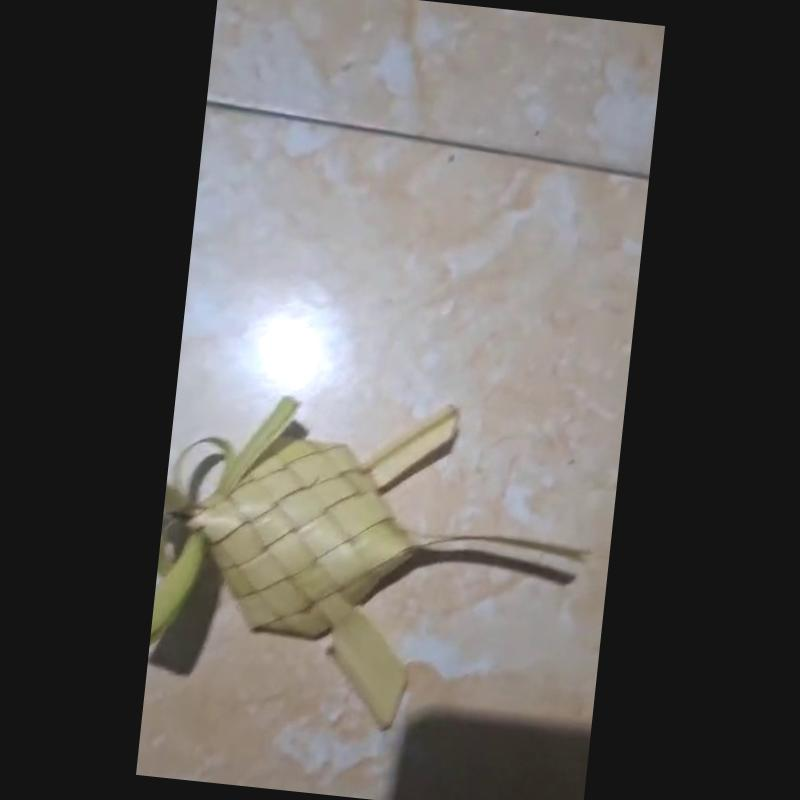Tipat Dampulan: (147, 391, 592, 741)
